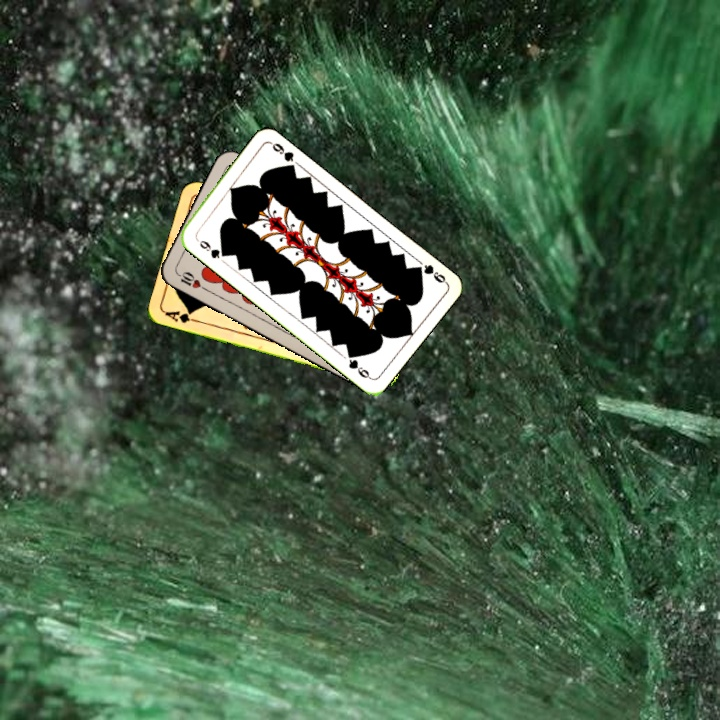G9: (410, 260, 449, 286), (195, 236, 229, 262)
GA: (161, 306, 202, 326)
H10: (172, 267, 210, 293)
